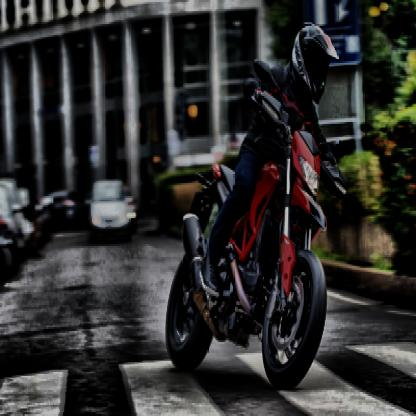wear: (292, 20, 335, 110)
